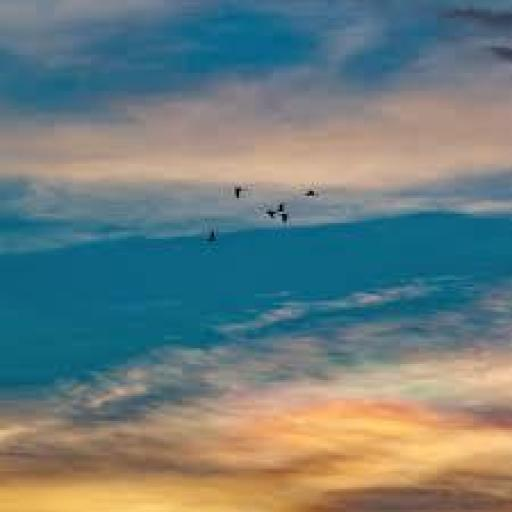birds: (200, 231, 222, 246), (231, 184, 249, 201), (305, 189, 323, 202), (279, 215, 293, 228), (265, 209, 277, 223), (277, 201, 286, 213)
